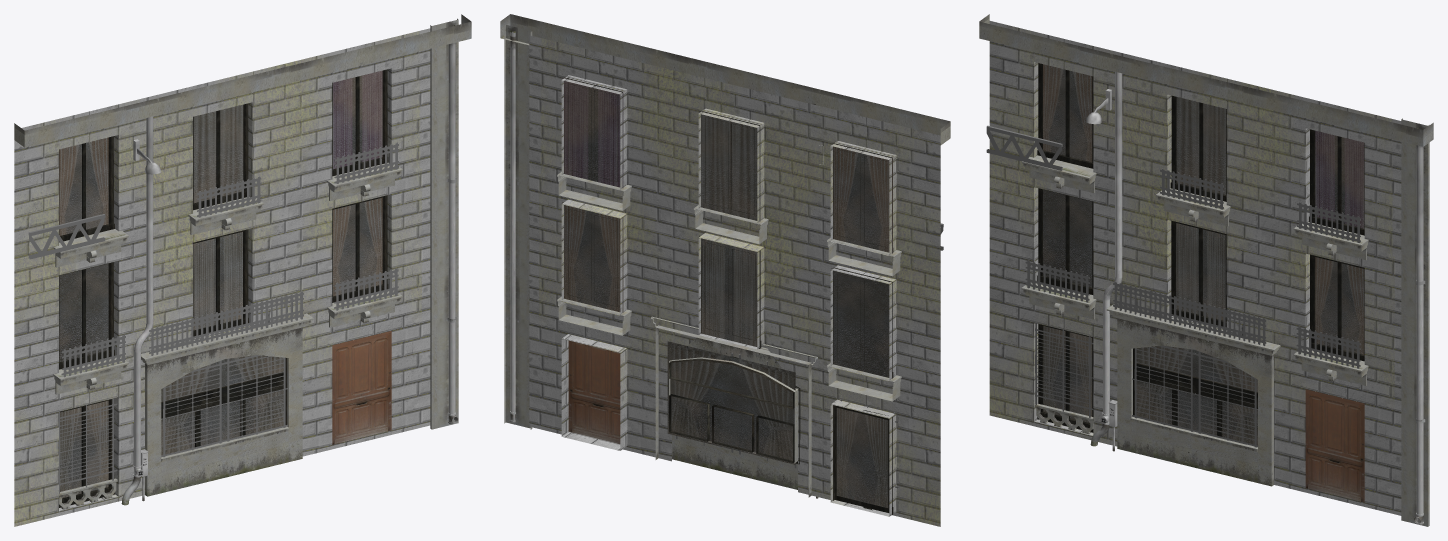
Rendered from ParisBuilding01.fbx.
3 renders of one model, left to right at view 1: azimuth 30°, elevation 25°; view 2: azimuth 150°, elevation 25°; view 3: azimuth 330°, elevation 25°, orthographic.
Visible parts, largest first — view 1: polySurface334, polySurface373, pCube11, polySurface374, polySurface602, polySurface639, polySurface608, polySurface610, polySurface609, polySurface606, polySurface605, polySurface607 (+30 smaller); view 2: polySurface334, polySurface602, pCube11, polySurface374, polySurface373, polySurface609, polySurface607, polySurface608, polySurface610, polySurface605, polySurface606, polySurface639 (+13 smaller); view 3: polySurface334, polySurface373, pCube11, polySurface374, polySurface602, polySurface639, polySurface606, polySurface608, polySurface605, polySurface610, polySurface609, polySurface607 (+30 smaller).
Boxes of the visible parts, x1=… form: polySurface334: x1=14, y1=28, x2=430, y2=526; polySurface373: x1=145, y1=327, x2=302, y2=496; pCube11: x1=430, y1=18, x2=458, y2=429; polySurface374: x1=14, y1=14, x2=471, y2=147; polySurface602: x1=161, y1=355, x2=283, y2=455; polySurface639: x1=332, y1=331, x2=391, y2=444; polySurface608: x1=193, y1=104, x2=243, y2=203; polySurface610: x1=333, y1=70, x2=382, y2=169; polySurface609: x1=333, y1=197, x2=382, y2=296; polySurface606: x1=59, y1=137, x2=108, y2=235; polySurface605: x1=59, y1=263, x2=108, y2=362; polySurface607: x1=193, y1=232, x2=242, y2=330; polySurface334: x1=529, y1=35, x2=940, y2=526; polySurface602: x1=667, y1=341, x2=795, y2=464; pCube11: x1=504, y1=25, x2=532, y2=429; polySurface374: x1=500, y1=14, x2=950, y2=145; polySurface373: x1=655, y1=325, x2=811, y2=497; polySurface609: x1=562, y1=202, x2=623, y2=312; polySurface607: x1=699, y1=235, x2=760, y2=347; polySurface608: x1=699, y1=111, x2=760, y2=221; polySurface610: x1=562, y1=78, x2=623, y2=187; polySurface605: x1=831, y1=268, x2=892, y2=378; polySurface606: x1=832, y1=144, x2=892, y2=253; polySurface639: x1=568, y1=340, x2=620, y2=443; polySurface334: x1=989, y1=21, x2=1401, y2=515; polySurface373: x1=1117, y1=318, x2=1273, y2=486; pCube11: x1=1401, y1=118, x2=1429, y2=526; polySurface374: x1=979, y1=14, x2=1433, y2=146; polySurface602: x1=1136, y1=346, x2=1257, y2=445; polySurface639: x1=1305, y1=389, x2=1364, y2=502; polySurface606: x1=1043, y1=64, x2=1092, y2=162; polySurface608: x1=1176, y1=97, x2=1225, y2=194; polySurface605: x1=1043, y1=189, x2=1092, y2=287; polySurface610: x1=1315, y1=130, x2=1364, y2=228; polySurface609: x1=1315, y1=257, x2=1364, y2=354; polySurface607: x1=1176, y1=223, x2=1225, y2=320.
Size of the model in its own units: 1077 by 938 by 124.
